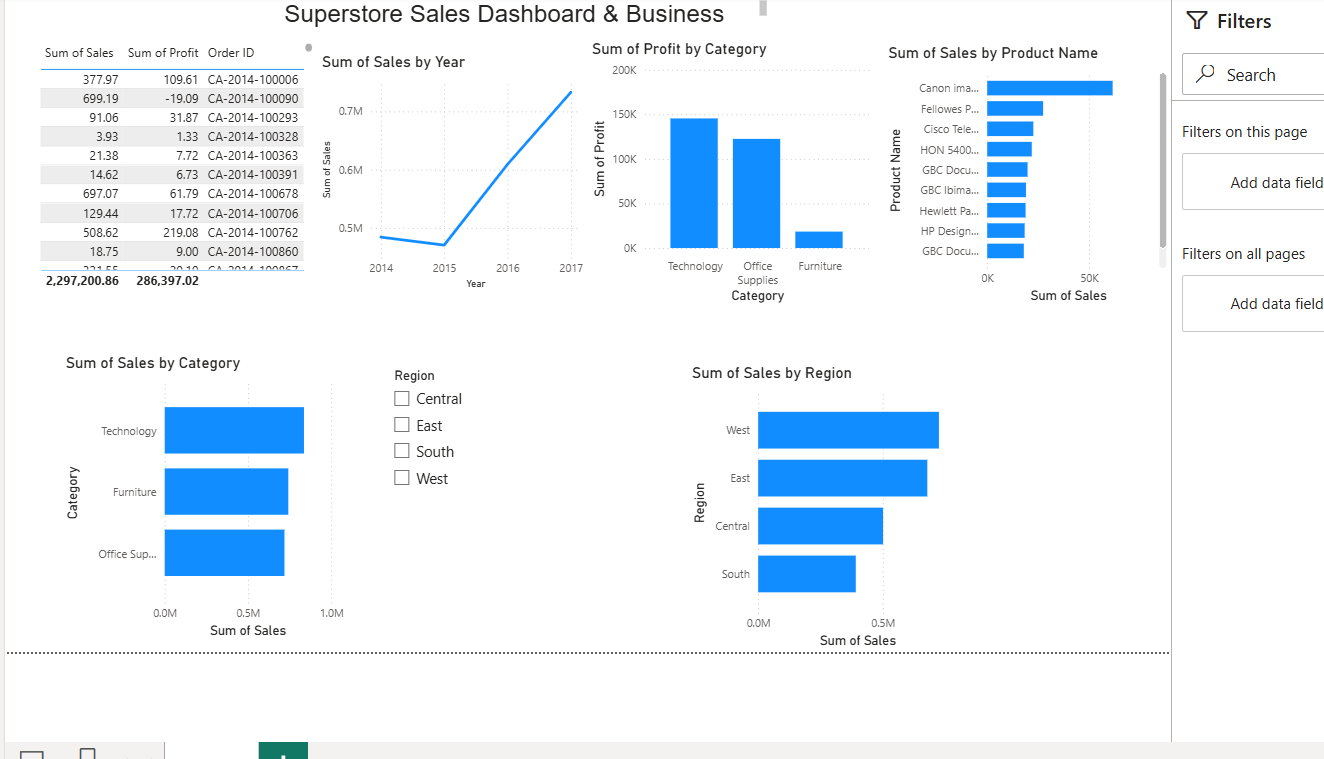

The dashboard page shown, as its layout file describes it:
{"tool":"powerbi","page":{"name":"Page 1","canvas":[1280,720],"ordinal":0},"visuals":[{"type":"barChart","fields":{"Category":["Sample - Superstore.Category"],"Y":["Sum(Sample - Superstore.Sales)"]},"box":[61.7,392.5,315.6,317],"z":0},{"type":"clusteredColumnChart","fields":{"Category":["Sample - Superstore.Category"],"Y":["Sum(Sample - Superstore.Profit)"]},"box":[639.5,48,315.6,293.7],"z":1},{"type":"barChart","fields":{"Category":["Sample - Superstore.Region"],"Y":["Sum(Sample - Superstore.Sales)"]},"box":[749.2,403.4,315.6,317],"z":2},{"type":"lineChart","fields":{"Category":["Sample - Superstore.Order Date.Variation.Date Hierarchy.Year","Sample - Superstore.Order Date.Variation.Date Hierarchy.Quarter","Sample - Superstore.Order Date.Variation.Date Hierarchy.Month","Sample - Superstore.Order Date.Variation.Date Hierarchy.Day"],"Y":["Sum(Sample - Superstore.Sales)"]},"box":[343.1,61.7,296.4,264.8],"z":3},{"type":"barChart","fields":{"Category":["Sample - Superstore.Product Name"],"Y":["Sum(Sample - Superstore.Sales)"]},"box":[964.7,52.1,315.6,289.5],"z":4},{"type":"slicer","fields":{"Values":["Sample - Superstore.Region"]},"box":[414.4,403.4,315.6,297.8],"z":5},{"type":"tableEx","fields":{"Values":["Sum(Sample - Superstore.Sales)","Sum(Sample - Superstore.Profit)","Sample - Superstore.Order ID"]},"box":[32.9,46.7,310.1,279.9],"z":6},{"type":"textbox","box":[301.9,0,625.7,39.8],"z":8}]}

Visuals, with their boxes on the page's 1280x720 design canvas (x1, y1, x2, y2). These are canvas units, not pixel positions in the 1324x759 screenshot, which may show the page scaled, cropped or inside an application window:
barChart - Sample - Superstore.Category x Sum(Sample - Superstore.Sales): locate(62, 392, 377, 710)
clusteredColumnChart - Sample - Superstore.Category x Sum(Sample - Superstore.Profit): locate(640, 48, 955, 342)
barChart - Sample - Superstore.Region x Sum(Sample - Superstore.Sales): locate(749, 403, 1065, 720)
lineChart - Sample - Superstore.Order Date.Variation.Date Hierarchy.Year x Sample - Superstore.Order Date.Variation.Date Hierarchy.Quarter: locate(343, 62, 640, 326)
barChart - Sample - Superstore.Product Name x Sum(Sample - Superstore.Sales): locate(965, 52, 1280, 342)
slicer - Sample - Superstore.Region: locate(414, 403, 730, 701)
tableEx - Sum(Sample - Superstore.Sales) x Sum(Sample - Superstore.Profit): locate(33, 47, 343, 327)
textbox: locate(302, 0, 928, 40)
